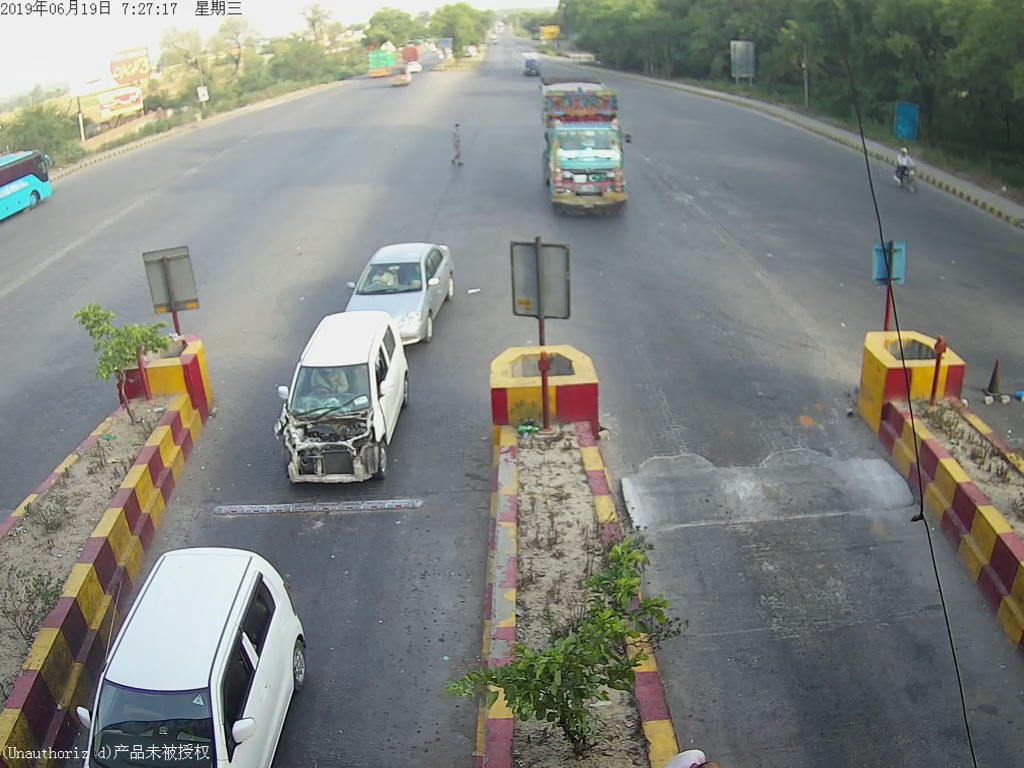Cat-1: (274, 312, 415, 493)
Cat-4: (534, 76, 648, 221)
